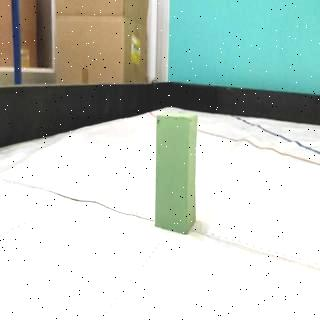greenbox: (155, 112, 200, 236)
